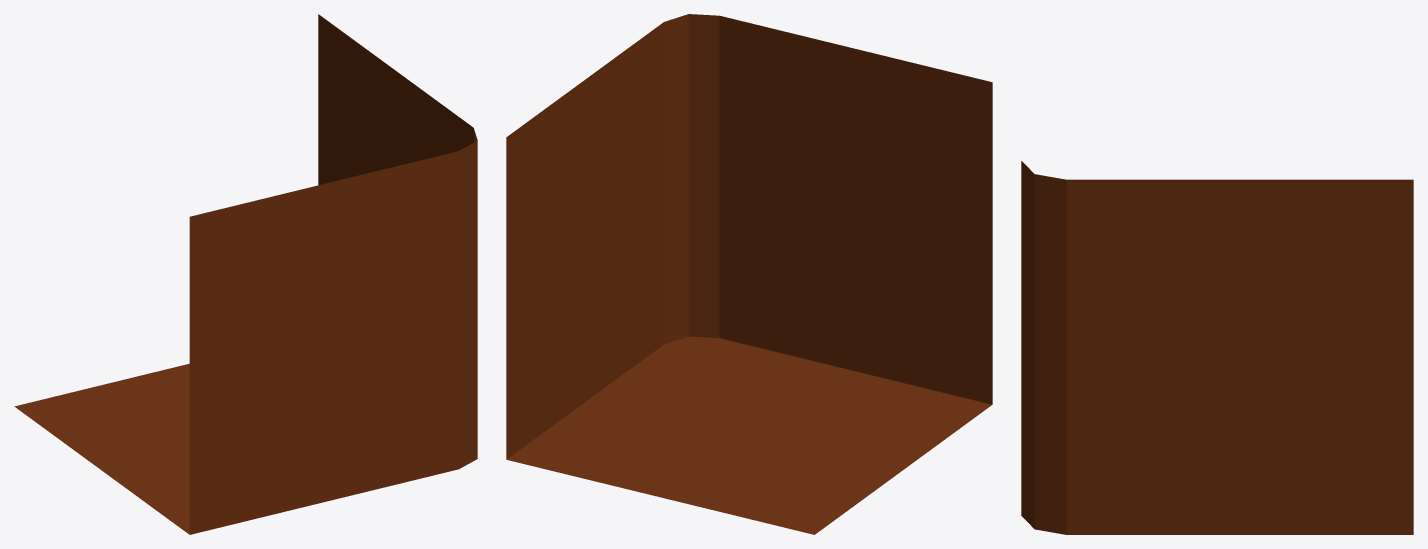
The model's file is FrontDownRight.fbx.
3 views of the same model, side by side, from view 1: azimuth 30°, elevation 25°; view 2: azimuth 150°, elevation 25°; view 3: azimuth 270°, elevation 25° (orthographic). The views are drawn at different scales.
Parts seen in each view (by area): view 1: FrontDownRight; view 2: FrontDownRight; view 3: FrontDownRight.
Boxes of the visible parts, <box> form: FrontDownRight: <box>14,14,477,534</box>; FrontDownRight: <box>506,14,992,534</box>; FrontDownRight: <box>1021,161,1413,534</box>.
Bounding box in the file's own units: 200 × 200 × 200.
